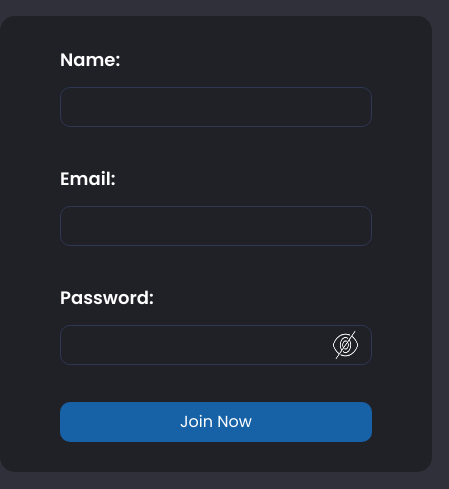
Test case: Alerta de error › Spans de información incorrecta › Si el email ya está registrado
Type "Jennyx1984@gmail.com" into the field labelled "Email:" at (216, 226), box [60,206,372,246]
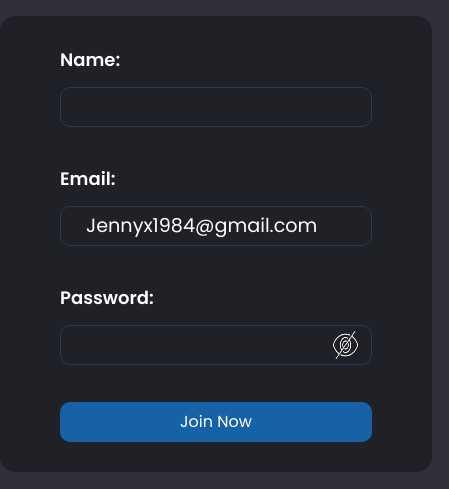
Leave the field labelled "Email:", box [60,206,372,246]
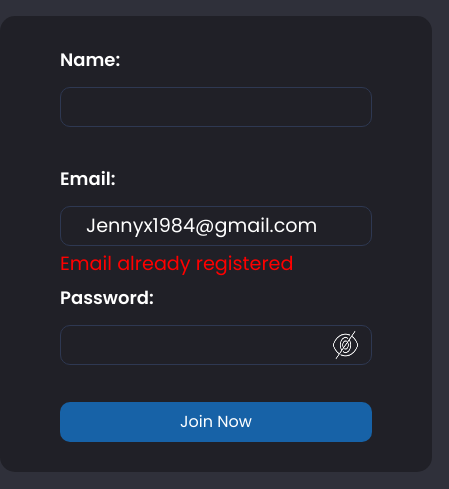
Check: the text "Email already registered" is shown, box [60,250,293,277]
